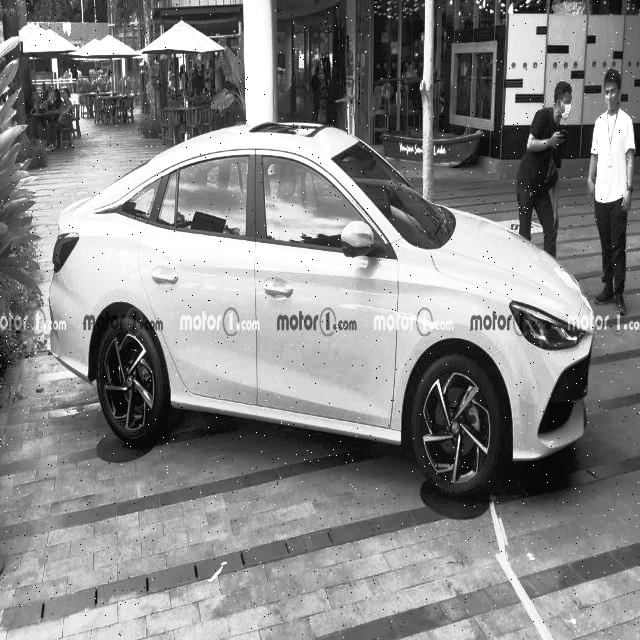Car: (46, 116, 589, 512)
